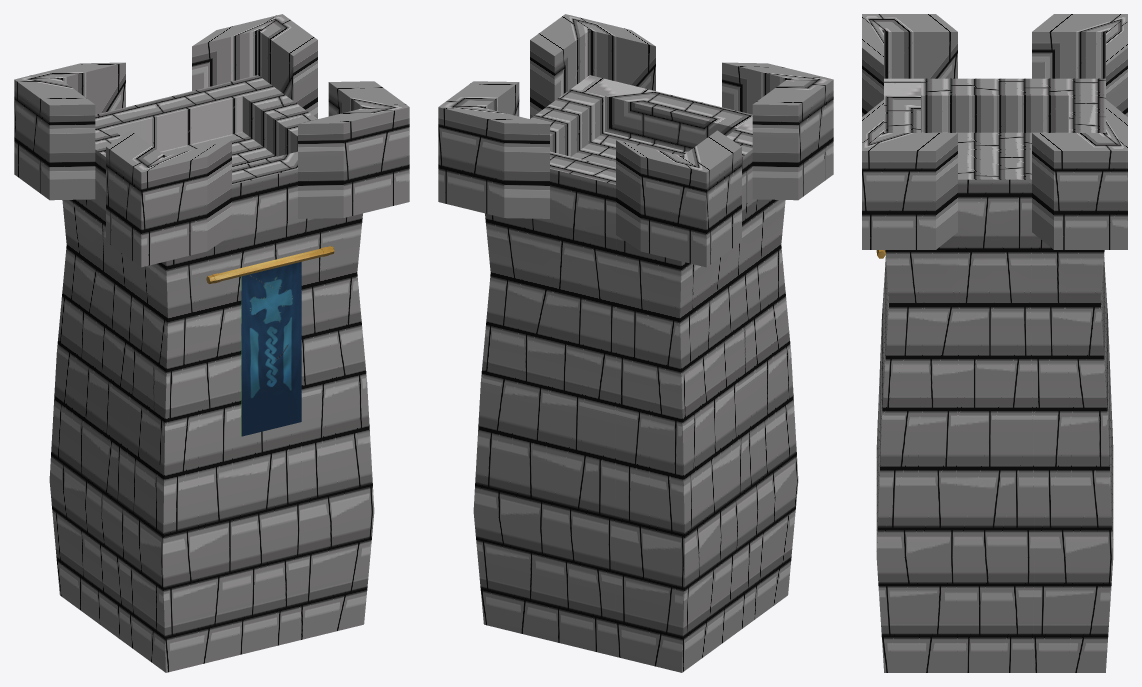
File: EconomyTower.fbx
3 renders of one model, left to right at view 1: azimuth 30°, elevation 25°; view 2: azimuth 150°, elevation 25°; view 3: azimuth 270°, elevation 25°, orthographic. The views are drawn at different scales.
Visible parts, largest first — view 1: Economy, Cylinder004; view 2: Economy; view 3: Economy.
Part boxes in pixels (x1=…): Economy: x1=14, y1=14, x2=409, y2=672; Cylinder004: x1=206, y1=246, x2=334, y2=436; Economy: x1=438, y1=14, x2=833, y2=672; Economy: x1=862, y1=14, x2=1127, y2=672.
Bounding box in the file's own units: 350 × 643 × 287.
Materials: 2 (2 with a texture image).
